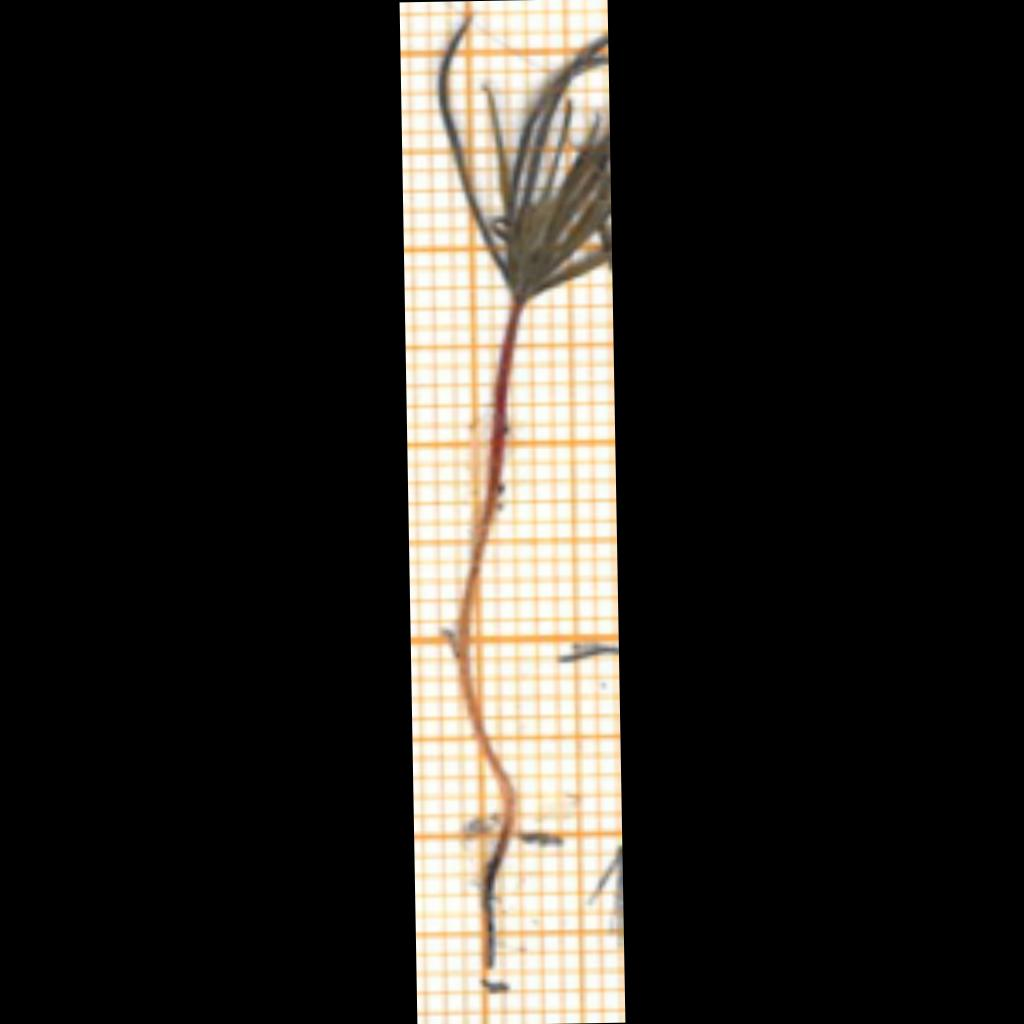flowerPinus: (440, 22, 611, 298)
rootPinus: (481, 838, 507, 969)
stemPinus: (453, 299, 522, 844)
